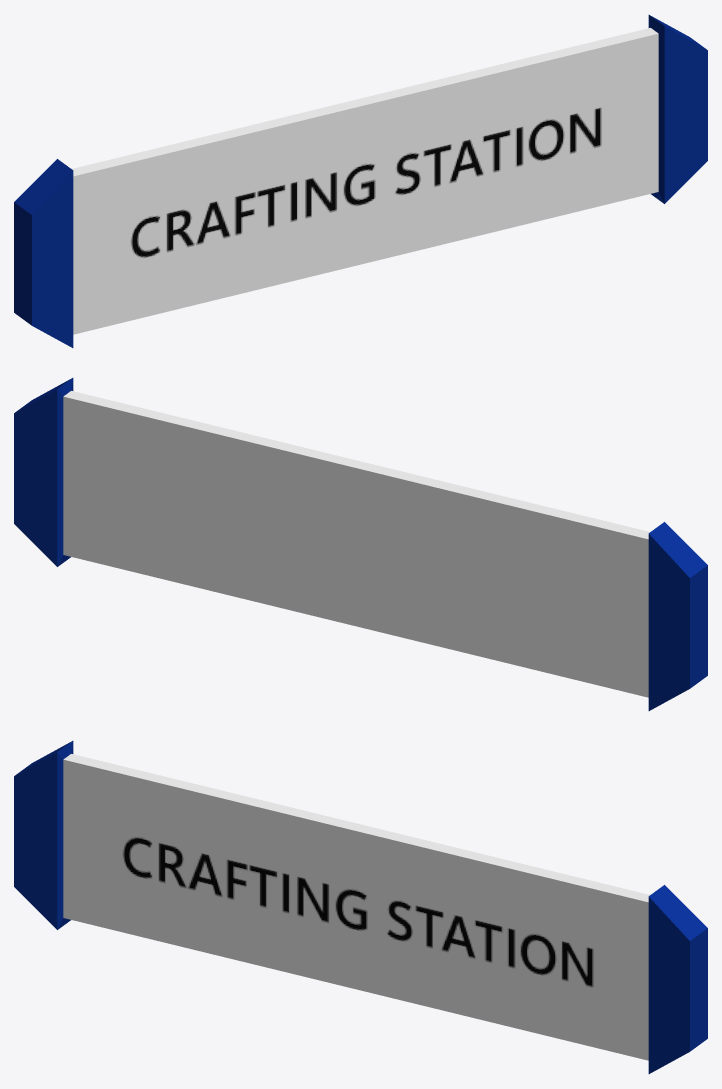
The model's file is wallSign_crafting.fbx.
3 views of the same model, one above another, from view 1: azimuth 30°, elevation 25°; view 2: azimuth 150°, elevation 25°; view 3: azimuth 330°, elevation 25° (orthographic).
Parts seen in each view (by area): view 1: Cube; view 2: Cube; view 3: Cube.
Part boxes in pixels (left/top/right/bottom): Cube: left=14, top=15, right=707, bottom=347; Cube: left=14, top=378, right=707, bottom=710; Cube: left=14, top=741, right=707, bottom=1073.
Size of the model in its own units: 178 by 44.83 by 8.21.
